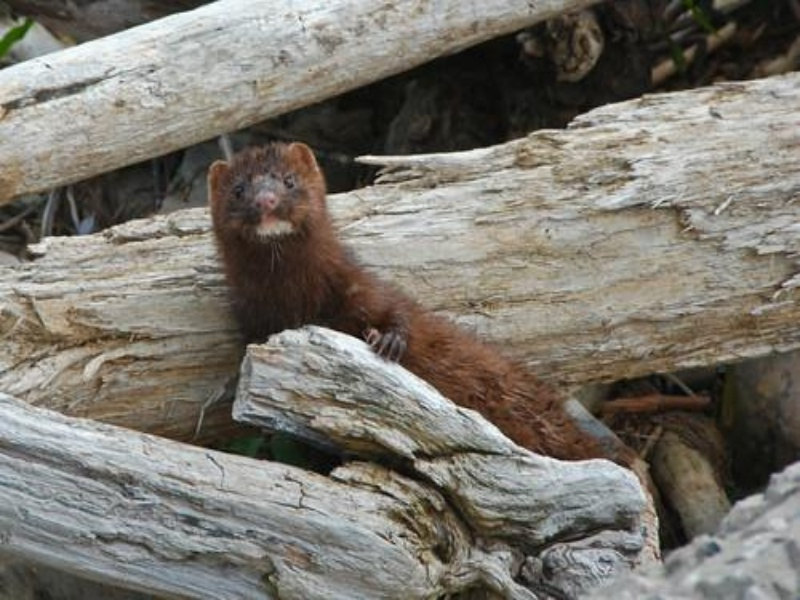minkish: (205, 138, 638, 475)
